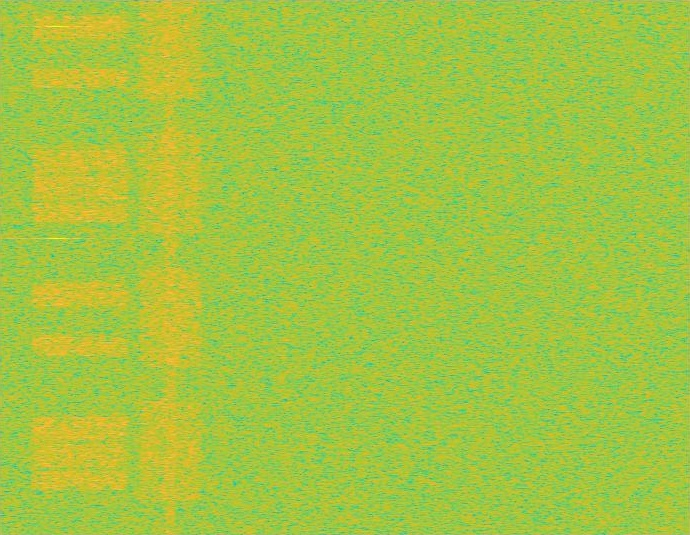5G: (136, 0, 205, 534)
DSSS: (163, 0, 178, 534)
LTE: (28, 0, 132, 534)
Radar: (50, 0, 64, 534)
